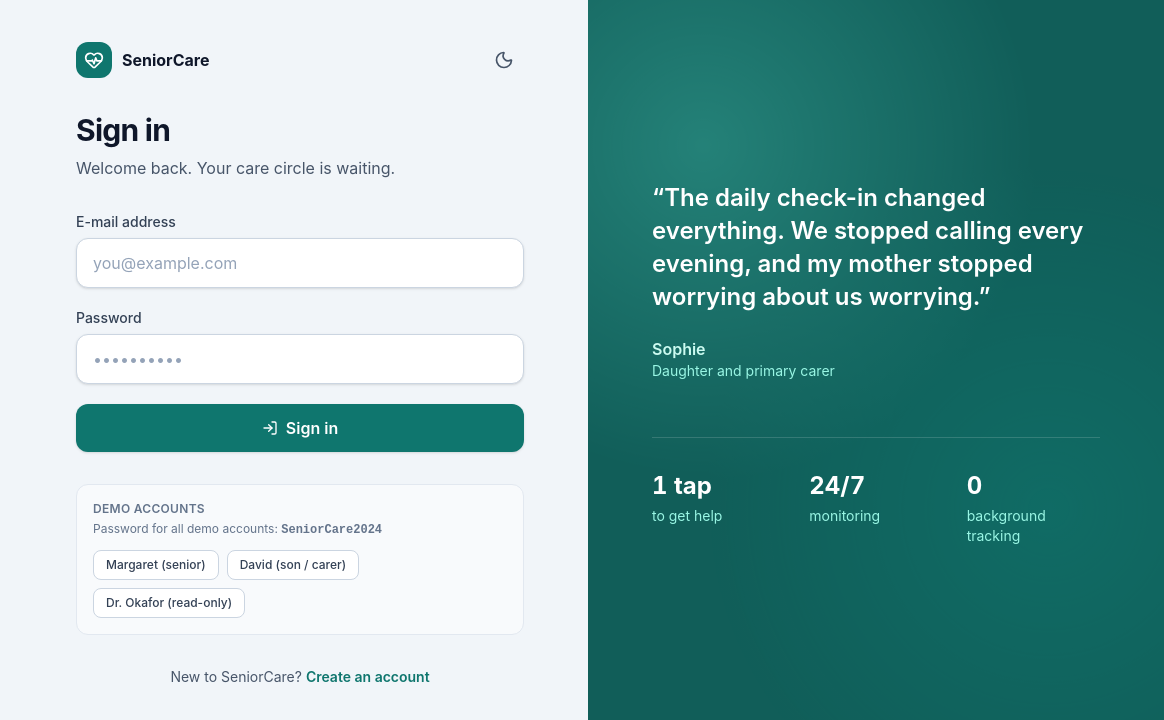
Scenario: Login form › honours the page the user was trying to reach
In the field labelled "E-mail address": (300, 263) [76, 238, 524, 288], type "margaret@example.com"
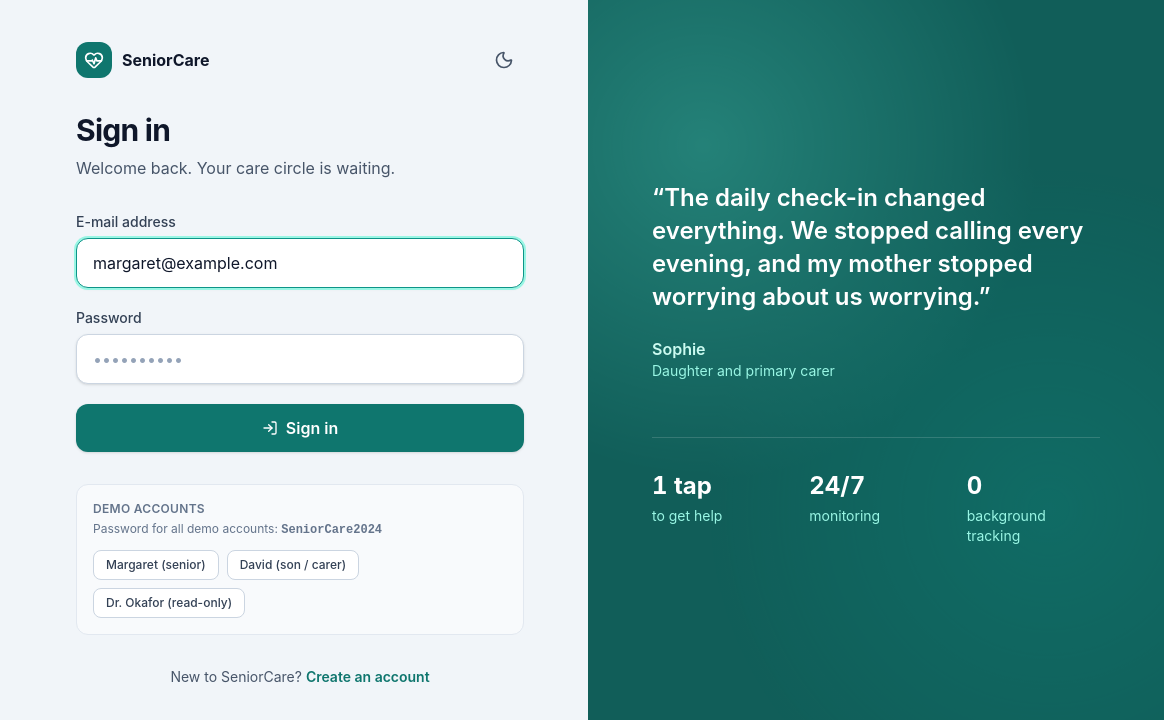
In the password field labelled "Password": (300, 359) [76, 334, 524, 384], type "SeniorCare2024"
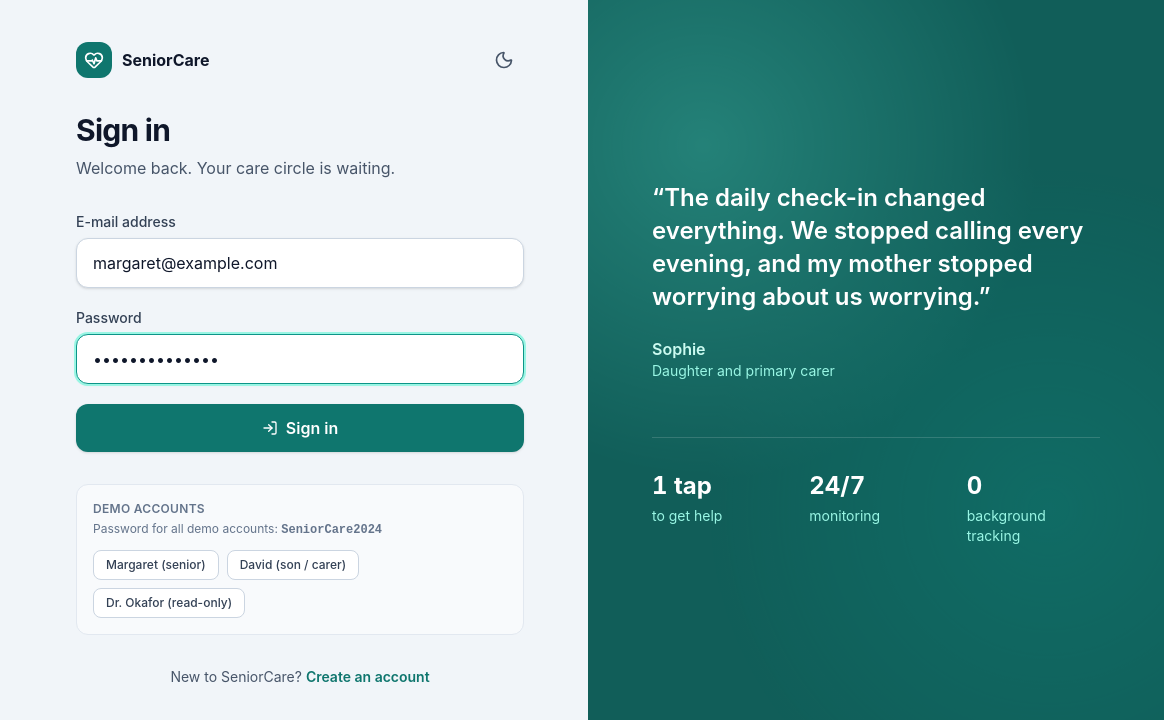
Click the button "Sign in": (300, 428) [76, 404, 524, 452]
(page scrolled)
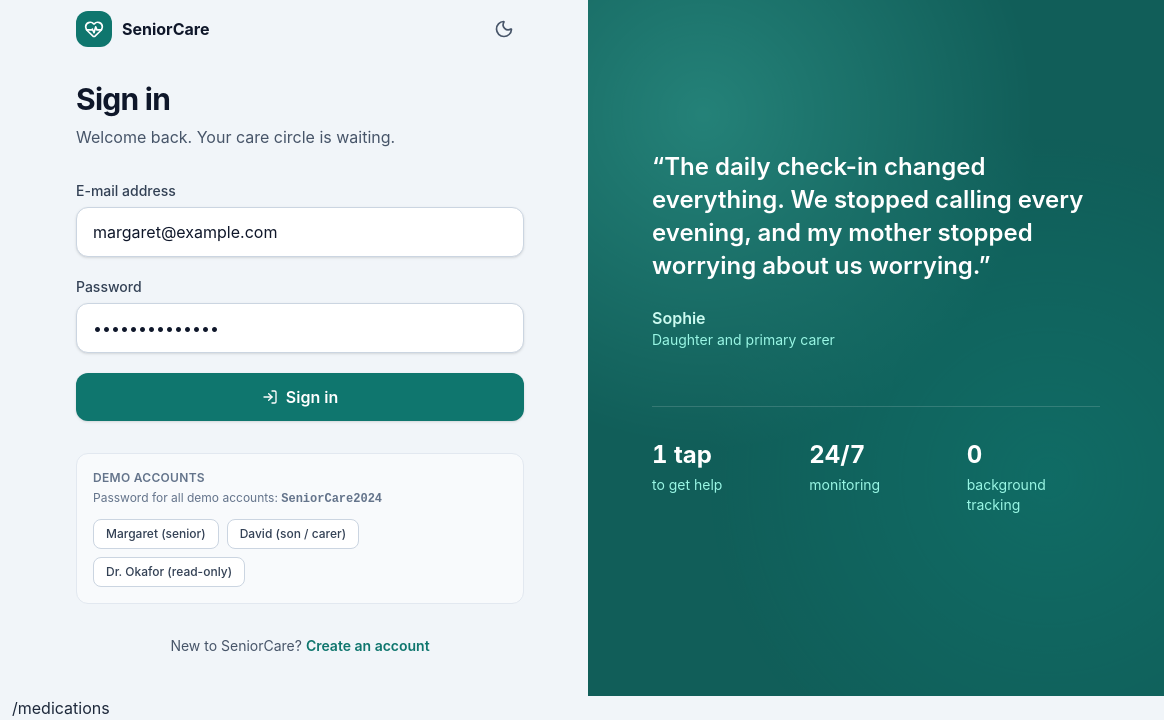
Expected: the text with test id "path" reads "/medications", [12, 698, 110, 718]
